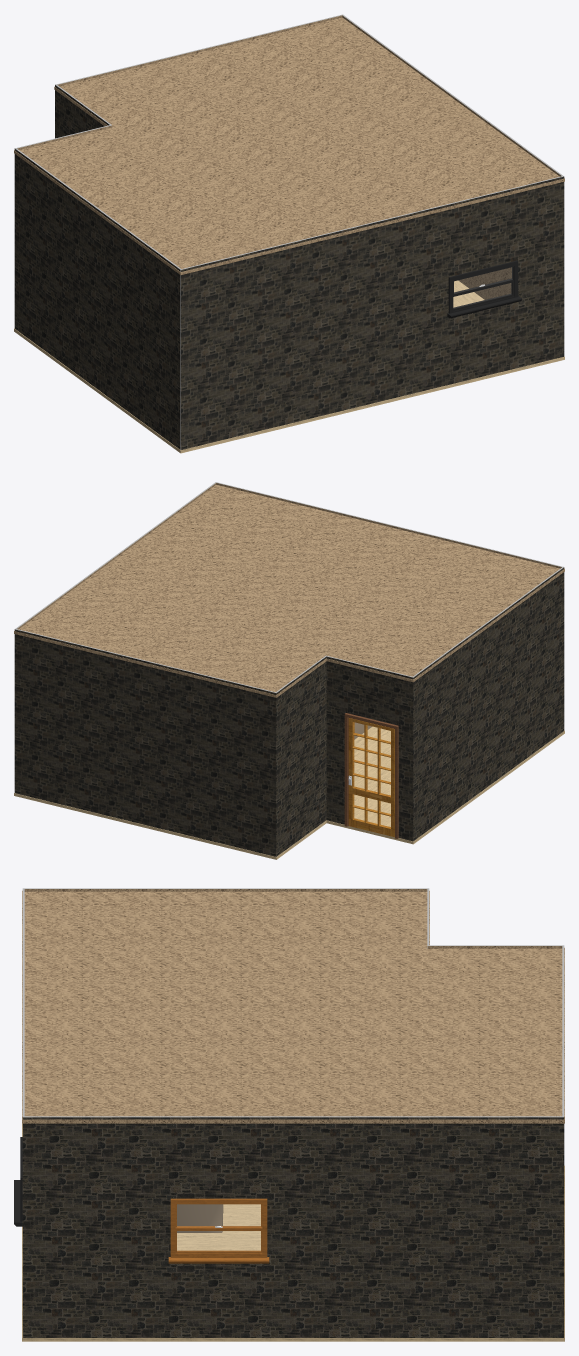
The model's file is ProcTHOR-Train-23.glb.
3 views of the same model, one above another, from view 1: azimuth 30°, elevation 25°; view 2: azimuth 150°, elevation 25°; view 3: azimuth 270°, elevation 25° (orthographic). The views are drawn at different scales.
Parts seen in each view (by area): view 1: Ceiling#room|2|c, WallInside#wall|exterior|0.00|6.79|6.79|6.79, WallInside#wall|exterior|6.79|1.70|6.79|6.79, Floor#room|2|f, Window_Hung_48x24, WallInside#wall|2|0.00|0.00|0.00|6.79, WallInside#wall|exterior|5.10|0.00|5.10|1.70, WallInside#wall|2|0.00|0.00|5.10|0.00; view 2: Ceiling#room|2|c, WallInside#wall|exterior|0.00|0.00|5.10|0.00, WallInside#wall|exterior|6.79|1.70|6.79|6.79, WallInside#wall|exterior|5.10|1.70|6.79|1.70, WallInside#wall|exterior|5.10|0.00|5.10|1.70, Floor#room|2|f, Doorway_5, WallInside#wall|2|0.00|6.79|6.79|6.79, WallInside#wall|2|0.00|0.00|0.00|6.79; view 3: Ceiling#room|2|c, WallInside#wall|exterior|0.00|0.00|0.00|6.79, Floor#room|2|f, Window_Hung_48x32, WallInside#wall|2|6.79|1.70|6.79|6.79, Sofa_216_2.
Boxes of the visible parts, x1,y1,x2,y2 form: Ceiling#room|2|c: (14,17,564,275); WallInside#wall|exterior|0.00|6.79|6.79|6.79: (181,176,564,449); WallInside#wall|exterior|6.79|1.70|6.79|6.79: (14,148,180,449); Floor#room|2|f: (14,280,564,453); Window_Hung_48x24: (447,260,522,318); WallInside#wall|2|0.00|0.00|0.00|6.79: (342,15,562,299); WallInside#wall|exterior|5.10|0.00|5.10|1.70: (55,84,110,138); WallInside#wall|2|0.00|0.00|5.10|0.00: (57,15,342,86); Ceiling#room|2|c: (14,485,564,697); WallInside#wall|exterior|0.00|0.00|5.10|0.00: (14,629,276,856); WallInside#wall|exterior|6.79|1.70|6.79|6.79: (413,567,564,840); WallInside#wall|exterior|5.10|1.70|6.79|1.70: (326,656,413,841); WallInside#wall|exterior|5.10|0.00|5.10|1.70: (276,656,326,856); Floor#room|2|f: (14,726,564,859); Doorway_5: (344,713,398,838); WallInside#wall|2|0.00|6.79|6.79|6.79: (215,482,562,568); WallInside#wall|2|0.00|0.00|0.00|6.79: (16,482,216,629); Ceiling#room|2|c: (22,890,564,1123); WallInside#wall|exterior|0.00|0.00|0.00|6.79: (22,1117,564,1337); Floor#room|2|f: (22,1123,564,1341); Window_Hung_48x32: (168,1198,269,1263); WallInside#wall|2|6.79|1.70|6.79|6.79: (23,888,428,891); Sofa_216_2: (177,1204,223,1232).
Size of what is drawn, in the model's own units: 6.93 by 3.11 by 6.93.
90 materials, 37 textured.
